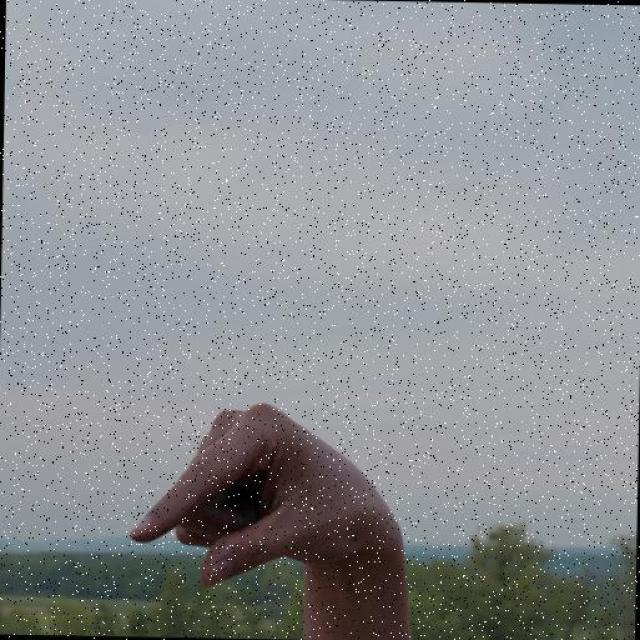Q: (124, 397, 419, 592)
